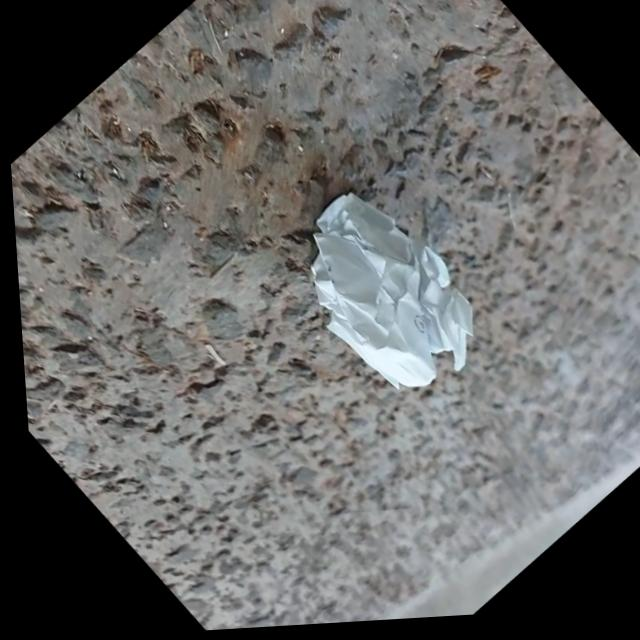paper: (312, 194, 472, 387)
